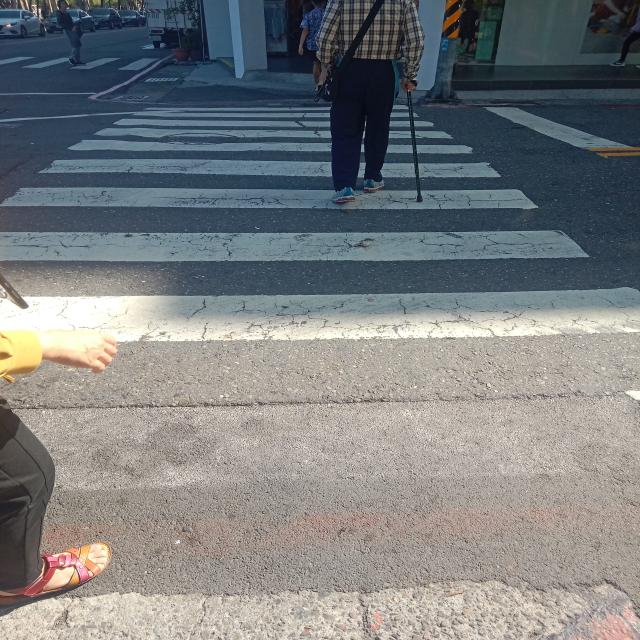person: (0, 398, 112, 606), (317, 0, 423, 204), (0, 330, 117, 380)
zebra crossing: (1, 105, 636, 338)
